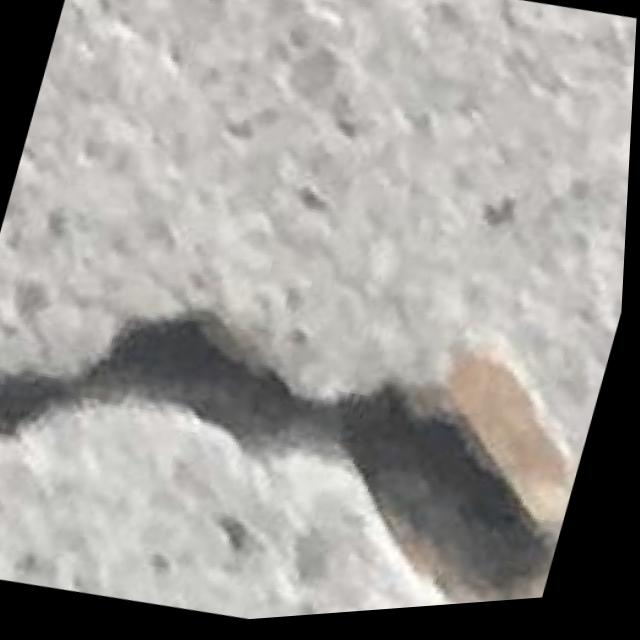Crack: (0, 227, 614, 640)
